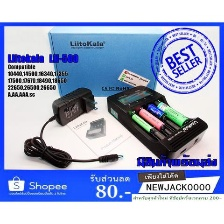battery: (152, 98, 190, 128), (138, 107, 166, 132), (130, 111, 154, 134), (145, 102, 168, 123)
book: (45, 23, 169, 100)
